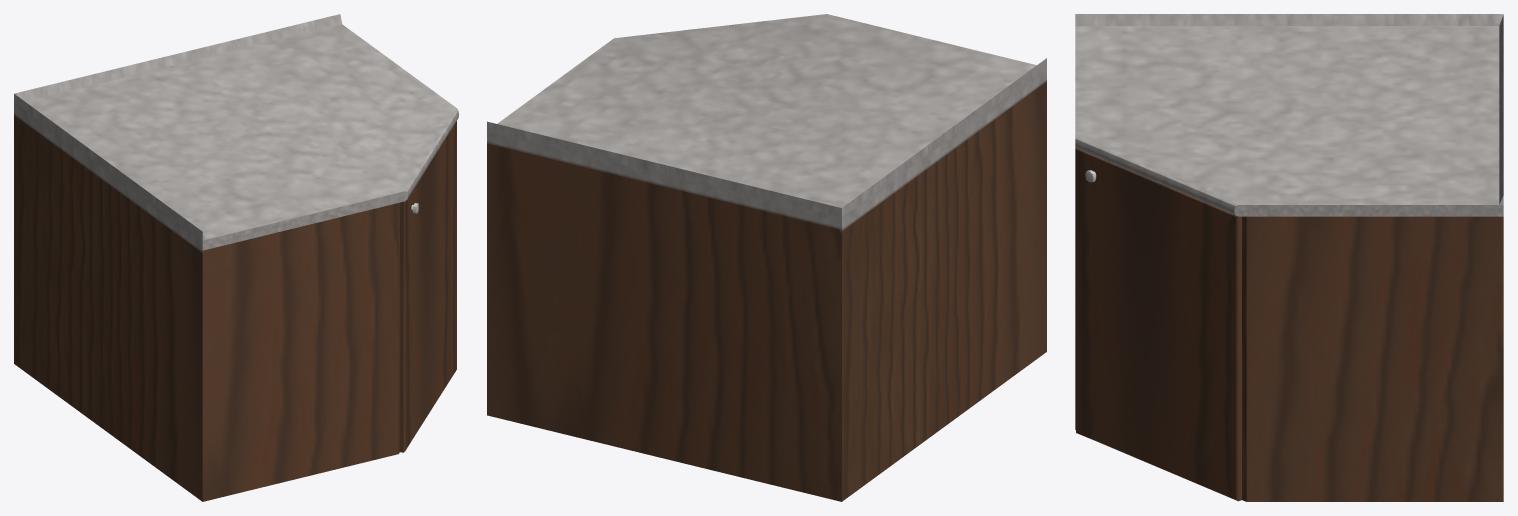
The model's file is Cabinet90Degrees.glb.
3 renders of one model, left to right at view 1: azimuth 30°, elevation 25°; view 2: azimuth 150°, elevation 25°; view 3: azimuth 270°, elevation 25°, orthographic. The views are drawn at different scales.
Visible parts, largest first — view 1: KitchenCabinet90Degrees; view 2: KitchenCabinet90Degrees; view 3: KitchenCabinet90Degrees.
Boxes of the visible parts, left/top/right/bottom form: KitchenCabinet90Degrees: left=14, top=14, right=458, bottom=501; KitchenCabinet90Degrees: left=487, top=14, right=1046, bottom=501; KitchenCabinet90Degrees: left=1075, top=14, right=1503, bottom=501.
Size of the model in its own units: 1.09 by 0.8613 by 1.09.
1 material, 1 textured.
